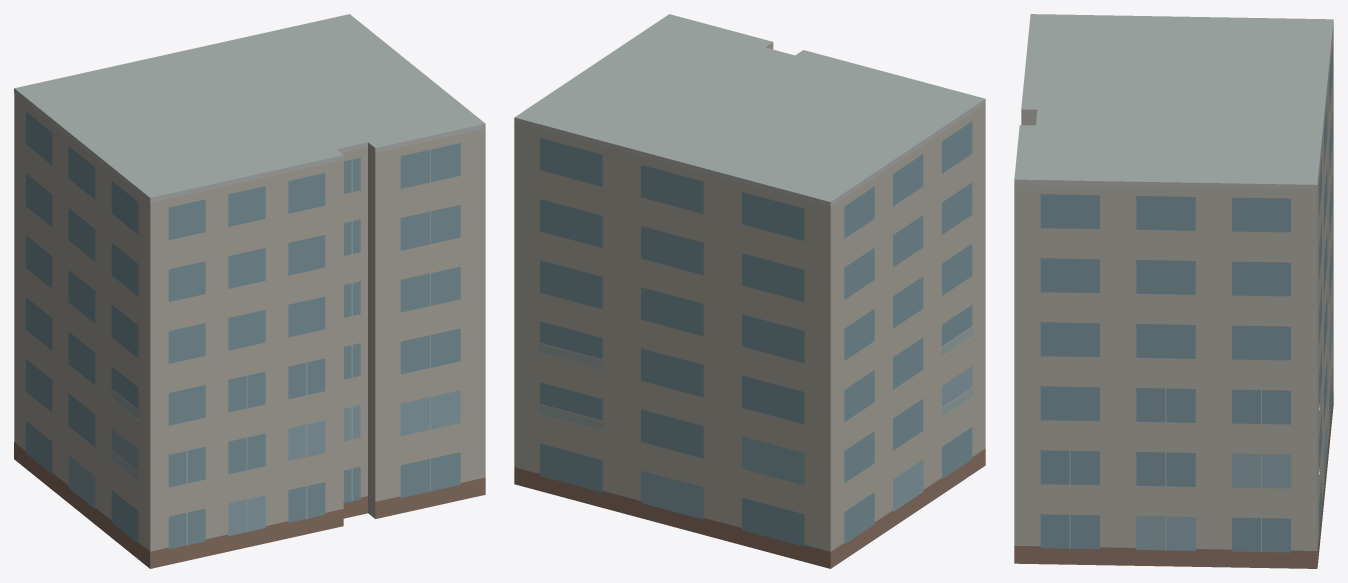
Rendered from survey-upis-32927484.glb.
The picture shows the model from 3 angles, left to right: view 1: azimuth 30°, elevation 25°; view 2: azimuth 150°, elevation 25°; view 3: azimuth 270°, elevation 25°; orthographic projection. The views are drawn at different scales.
Parts seen in each view (by area): view 1: survey-upis-32927484.tmp; view 2: survey-upis-32927484.tmp; view 3: survey-upis-32927484.tmp.
Boxes of the visible parts, bbox=[...] form: survey-upis-32927484.tmp: bbox=[14, 14, 485, 568]; survey-upis-32927484.tmp: bbox=[514, 14, 985, 568]; survey-upis-32927484.tmp: bbox=[1014, 14, 1333, 568].
Size of the model in its own units: 17.47 by 18.3 by 13.8.
